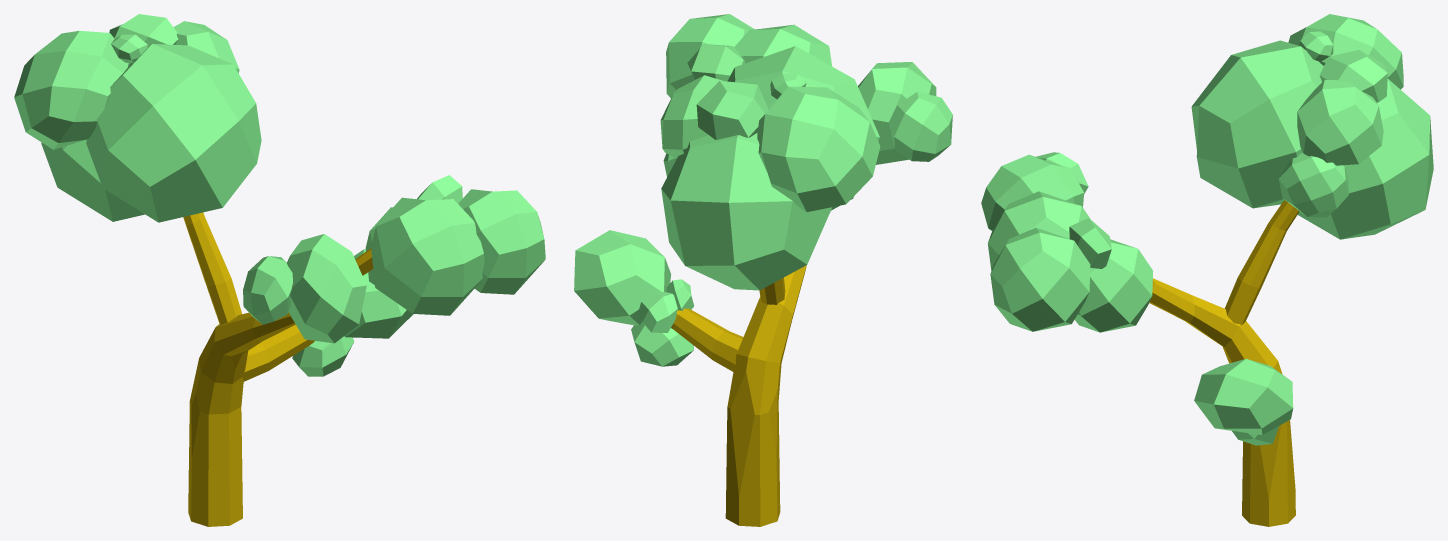
Rendered from Tree_type_1.fbx.
The picture shows the model from 3 angles, left to right: view 1: azimuth 30°, elevation 25°; view 2: azimuth 150°, elevation 25°; view 3: azimuth 270°, elevation 25°; orthographic projection. The views are drawn at different scales.
Parts seen in each view (by area): view 1: pPlatonic23, pCylinder6, pPlatonic25, pPlatonic21, pPlatonic26, pPlatonic24, pPlatonic16, pCylinder8, pPlatonic14, pPlatonic13, pCylinder7, pPlatonic29 (+4 smaller); view 2: pPlatonic16, pCylinder6, pPlatonic21, pPlatonic13, pPlatonic23, pPlatonic26, pPlatonic14, pPlatonic22, pPlatonic24, pPlatonic20, pPlatonic25, pCylinder7 (+6 smaller); view 3: pPlatonic23, pPlatonic16, pCylinder6, pPlatonic24, pPlatonic20, pPlatonic13, pPlatonic15, pPlatonic26, pPlatonic30, pPlatonic25, pPlatonic21, pCylinder8 (+4 smaller).
Boxes of the visible parts, x1,y1,x2,y2 form: pPlatonic23: (86,44,261,222); pCylinder6: (188,248,373,526); pPlatonic25: (371,197,484,315); pPlatonic21: (14,30,128,149); pPlatonic26: (287,234,366,343); pPlatonic24: (458,189,545,294); pPlatonic16: (41,139,144,221); pCylinder8: (183,212,241,324); pPlatonic14: (243,256,292,324); pPlatonic13: (344,249,413,338); pCylinder7: (242,324,314,381); pPlatonic29: (292,336,354,376); pPlatonic16: (661,133,832,290); pCylinder6: (725,265,806,526); pPlatonic21: (757,86,880,211); pPlatonic13: (574,230,671,325); pPlatonic23: (727,46,879,210); pPlatonic26: (858,62,936,164); pPlatonic14: (888,92,952,161); pPlatonic22: (696,80,768,139); pPlatonic24: (666,14,754,98); pPlatonic20: (660,75,722,158); pPlatonic25: (734,24,832,66); pCylinder7: (671,308,743,371); pPlatonic23: (1191,40,1323,208); pPlatonic16: (1297,79,1433,239); pCylinder6: (1149,278,1295,526); pPlatonic24: (990,227,1090,331); pPlatonic20: (1297,80,1383,165); pPlatonic13: (1194,358,1293,434); pPlatonic15: (1074,239,1153,332); pPlatonic26: (981,154,1084,231); pPlatonic30: (1278,153,1348,217); pPlatonic25: (987,191,1090,270); pPlatonic21: (1288,14,1403,89); pCylinder8: (1224,200,1299,325).
Bounding box in the file's own units: 35.68 × 45.35 × 40.99.
